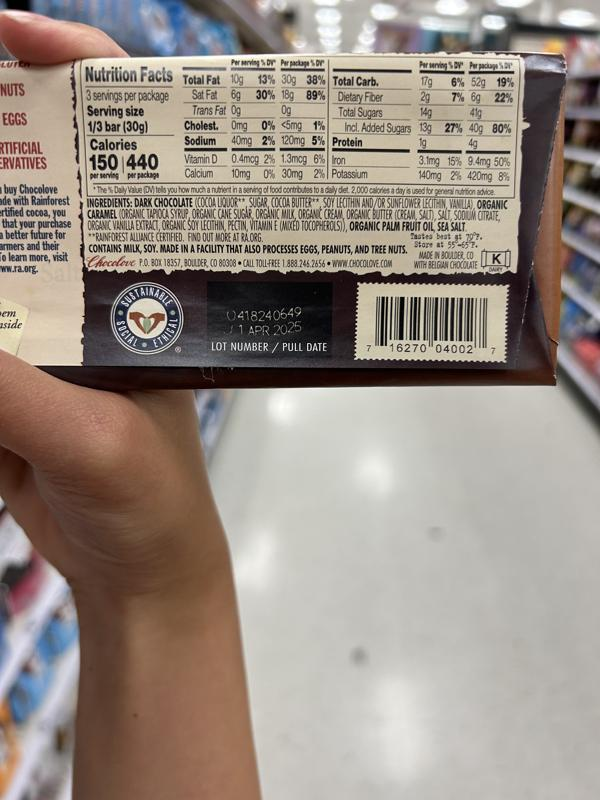ingredients: (84, 197, 510, 243)
